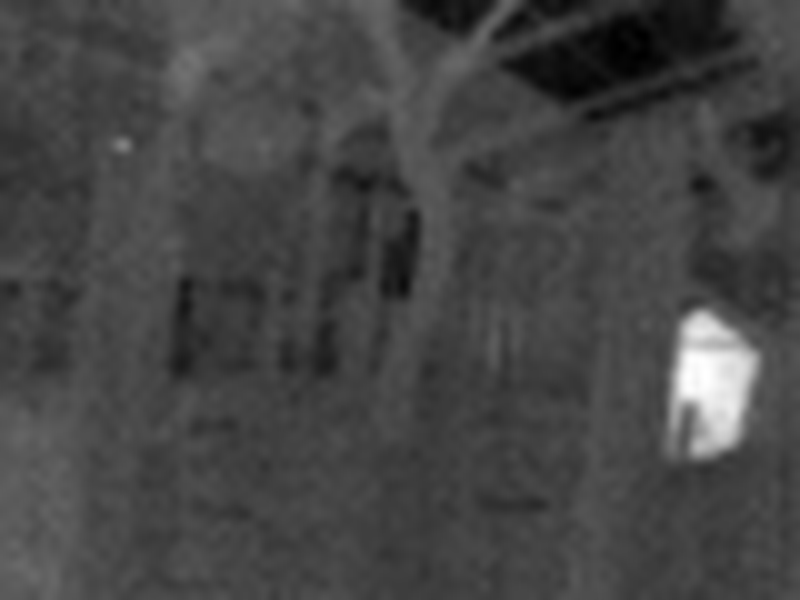elephant: (620, 289, 758, 468)
